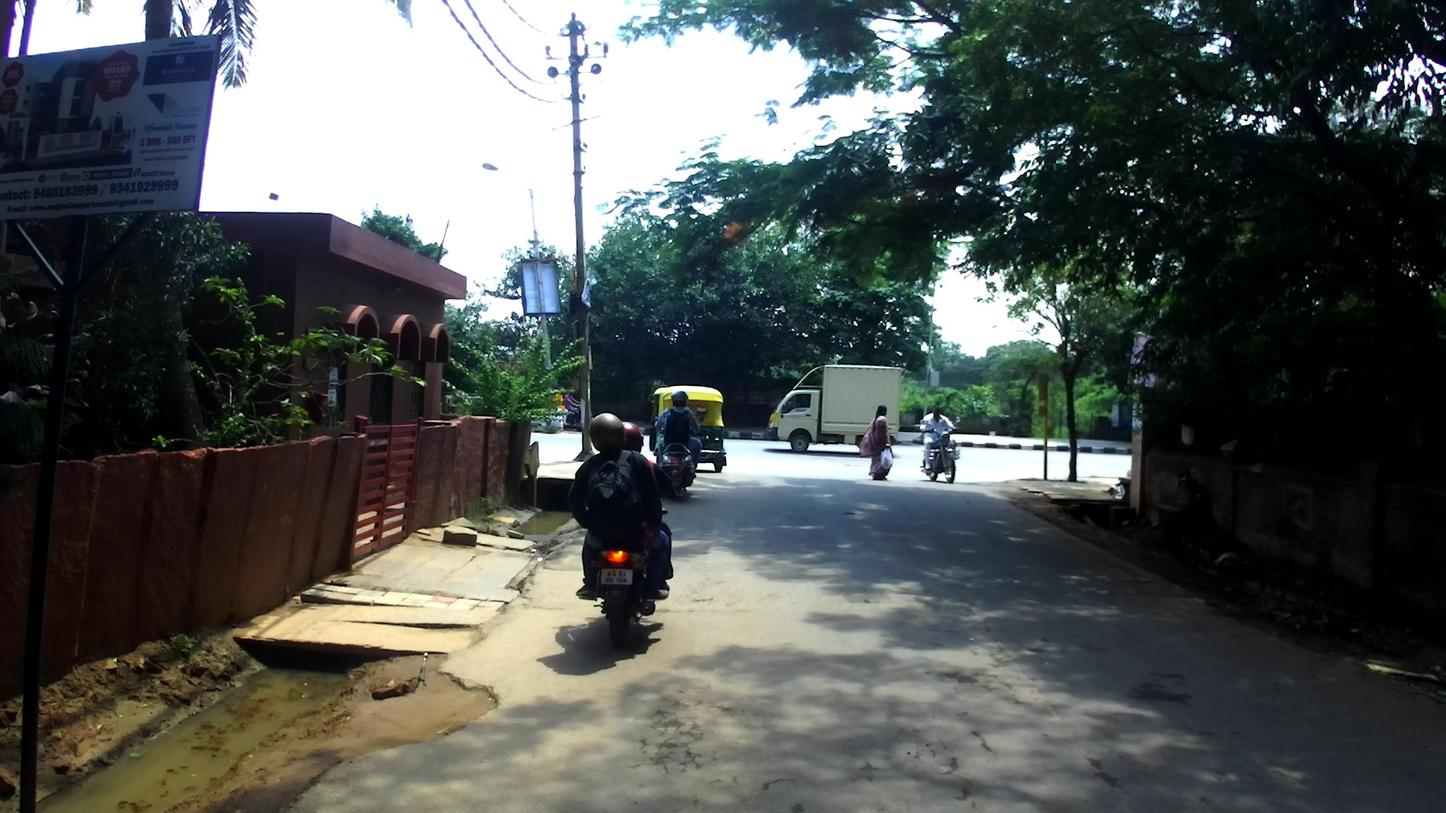autorickshaw: (648, 384, 726, 471)
motorcycle: (590, 486, 676, 648), (658, 413, 703, 494), (917, 417, 966, 483), (564, 405, 591, 429)
person: (860, 405, 895, 480)
rider: (571, 413, 669, 606), (609, 422, 676, 580), (657, 391, 699, 467), (921, 406, 953, 469), (566, 391, 582, 427), (554, 391, 566, 425)
truck: (768, 364, 901, 452)
vehicle fallback: (1110, 401, 1133, 440)
